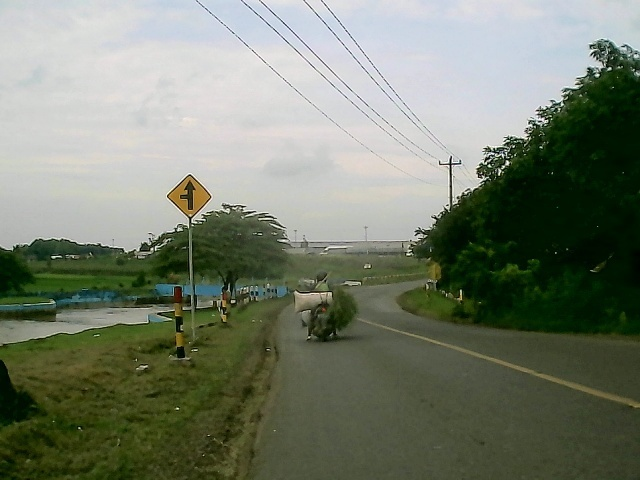Simpang kiri dengan prioritas: (165, 171, 214, 219)
